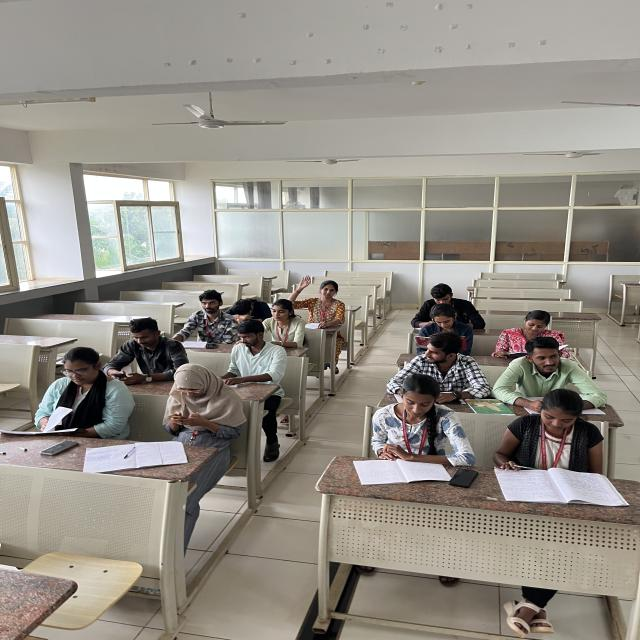Hand Rising: (288, 274, 346, 318)
Reading: (14, 344, 140, 444), (358, 376, 476, 476), (492, 336, 604, 408), (493, 309, 571, 356), (413, 302, 470, 350)
Sleeping: (226, 292, 272, 321)
Using Phone: (154, 362, 250, 453), (105, 318, 178, 383)
Writing: (496, 386, 613, 502), (220, 320, 286, 391), (167, 290, 234, 352)
